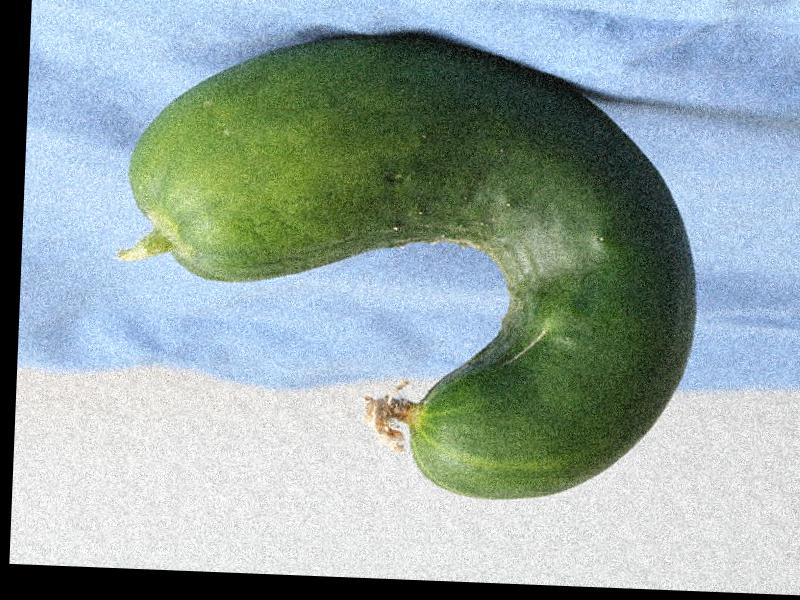Cucumber: (116, 25, 708, 508)
